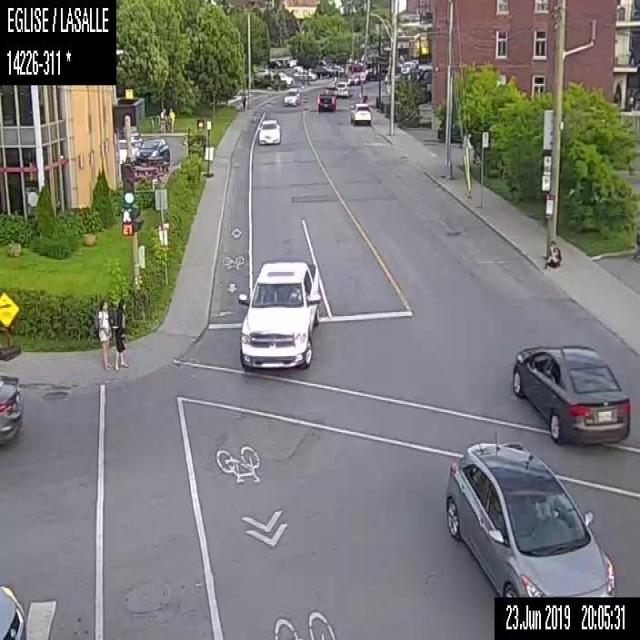pedestrian: (93, 296, 111, 371), (110, 297, 128, 371), (543, 239, 560, 268), (167, 104, 175, 134), (158, 106, 165, 133)
vehicle: (444, 436, 617, 595), (511, 340, 629, 445), (236, 256, 321, 369), (0, 373, 21, 447), (0, 585, 25, 638), (136, 138, 170, 164), (116, 136, 144, 164), (257, 117, 281, 144), (346, 102, 371, 125), (316, 89, 334, 112), (295, 67, 317, 81), (334, 79, 351, 97), (283, 87, 299, 105), (313, 65, 332, 77), (400, 59, 415, 74), (347, 71, 365, 83), (278, 70, 292, 85), (326, 79, 336, 89)
